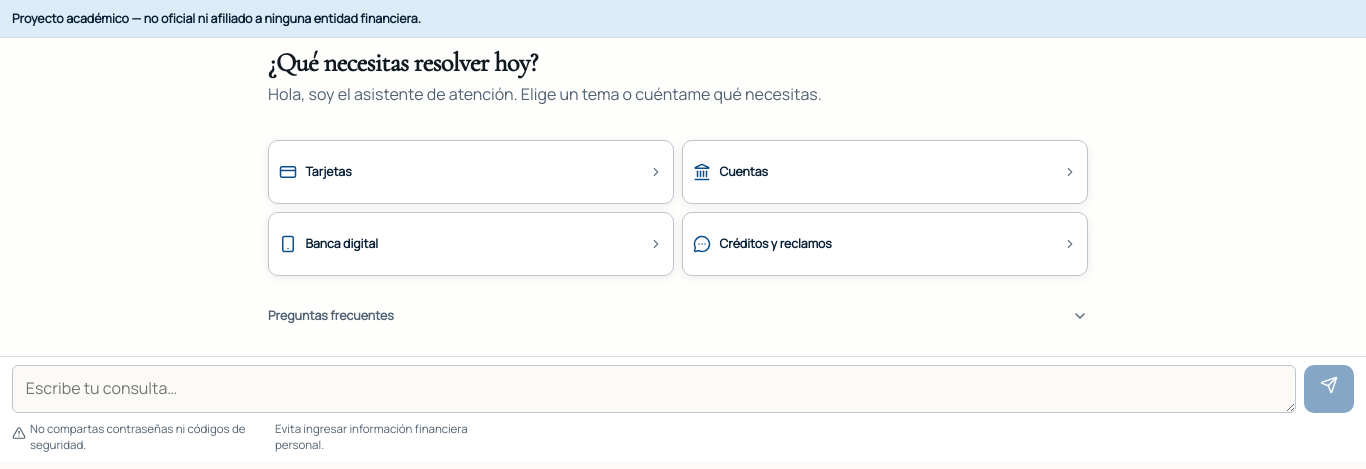
Test: AssistantConversation › hides the excluded FAQ from API-provided question choices
In the text box labelled "Escribe tu consulta": x=654, y=389 [12, 365, 1296, 413], type "banca digital"
Then press Enter
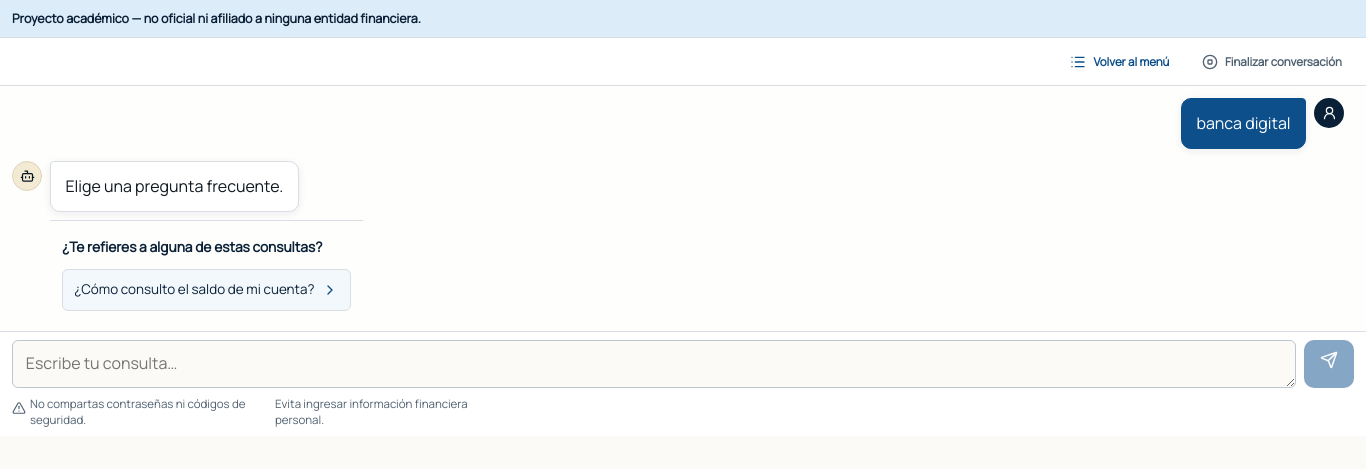
Expected: the button "¿Cómo consulto el saldo de mi cuenta?" is shown, [62, 269, 351, 311]
